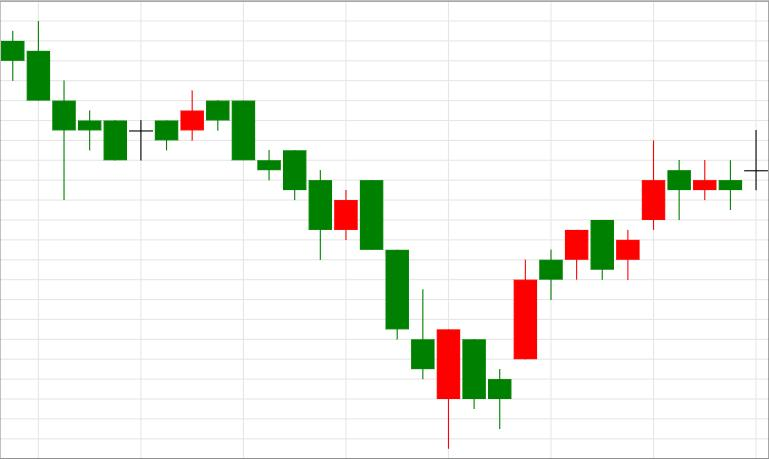inverse_hammer_rise: (233, 101, 434, 379)
